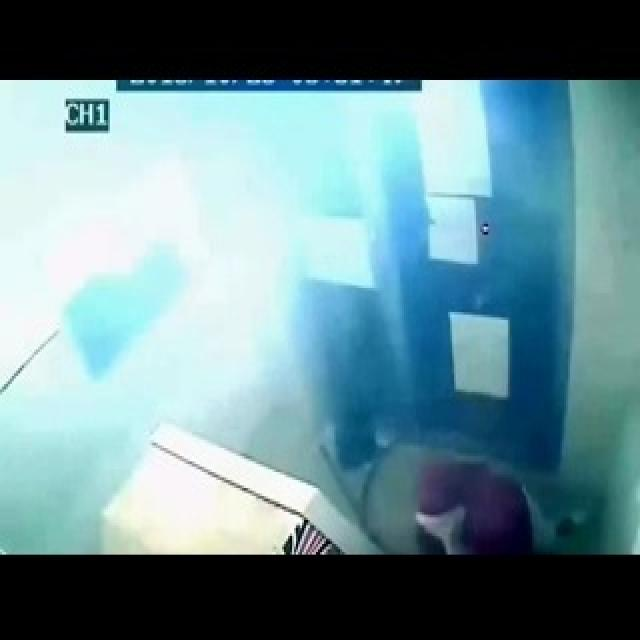thief: (398, 439, 578, 548)
